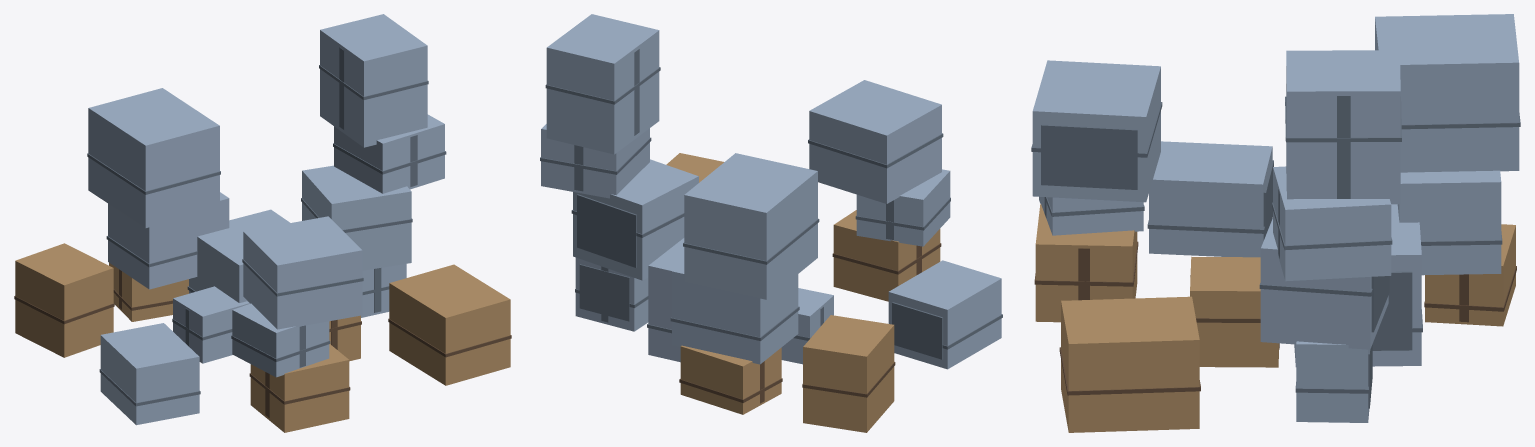
The model's file is stackedCrates.glb.
3 views of the same model, side by side, from view 1: azimuth 30°, elevation 25°; view 2: azimuth 150°, elevation 25°; view 3: azimuth 270°, elevation 25° (orthographic). The views are drawn at different scales.
Parts seen in each view (by area): view 1: n127, n104, n95, n120, n58, n63, n74, n90, n31, n81, n40, n109 (+7 smaller); view 2: n127, n95, n120, n58, n90, n63, n74, n31, n22, n81, n40, n78 (+13 smaller); view 3: n127, n104, n95, n63, n120, n90, n81, n74, n49, n31, n124, n11 (+17 smaller).
Boxes of the visible parts, <box> form: n127: <box>88,88,219,228</box>; n104: <box>389,264,510,385</box>; n95: <box>320,14,427,147</box>; n120: <box>243,216,362,329</box>; n58: <box>15,243,113,357</box>; n63: <box>100,323,199,425</box>; n74: <box>302,165,411,270</box>; n90: <box>108,192,229,289</box>; n31: <box>250,344,349,432</box>; n81: <box>334,114,444,193</box>; n40: <box>232,303,329,377</box>; n109: <box>189,209,289,302</box>; n127: <box>684,153,817,299</box>; n95: <box>546,14,659,154</box>; n120: <box>809,80,941,203</box>; n58: <box>803,315,894,432</box>; n90: <box>672,262,798,364</box>; n63: <box>888,260,1001,369</box>; n74: <box>573,159,698,280</box>; n31: <box>833,210,940,301</box>; n22: <box>680,345,781,414</box>; n81: <box>541,124,649,198</box>; n40: <box>856,169,950,246</box>; n78: <box>577,194,636,267</box>; n127: <box>1375,14,1519,172</box>; n104: <box>1061,296,1199,432</box>; n95: <box>1286,50,1400,204</box>; n63: <box>1149,141,1272,257</box>; n120: <box>1032,60,1160,202</box>; n90: <box>1397,170,1501,275</box>; n81: <box>1273,166,1391,281</box>; n74: <box>1260,218,1388,349</box>; n49: <box>1190,256,1278,367</box>; n31: <box>1035,204,1137,322</box>; n124: <box>1041,124,1137,189</box>; n11: <box>1296,341,1369,422</box>.
Size of the model in its own units: 3.14 by 2.18 by 2.83.
